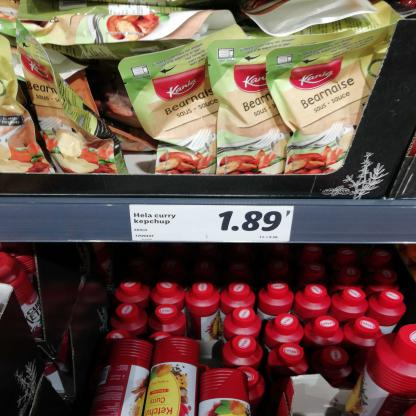prtg: (130, 206, 295, 244)
